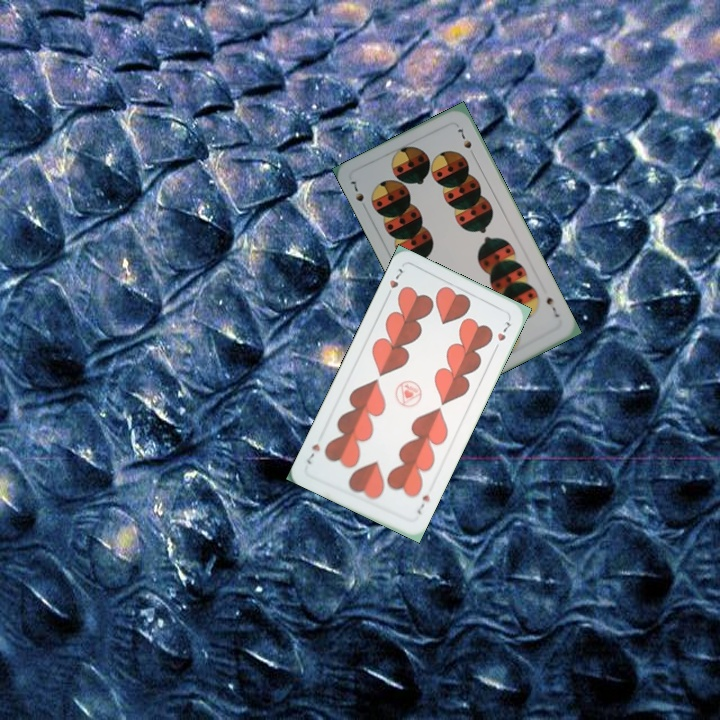H7: (382, 264, 405, 301), (412, 490, 433, 517)
S7: (346, 177, 370, 213), (542, 293, 562, 320)
